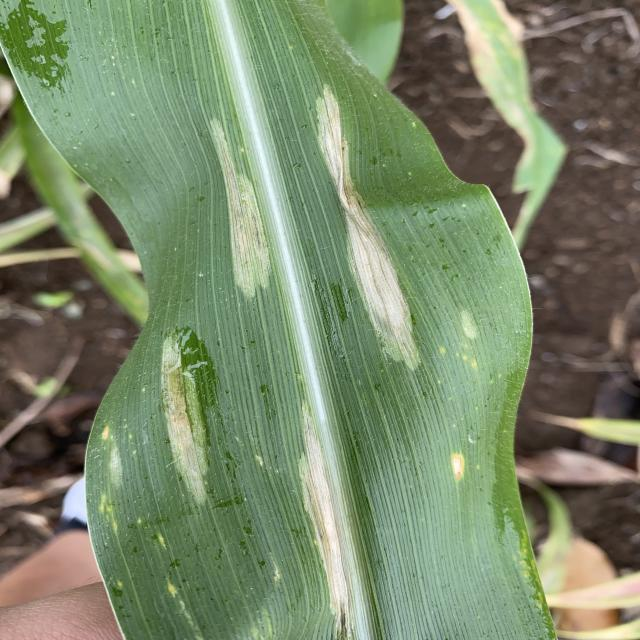Corn_Leaf_Blight: (86, 0, 530, 640)
